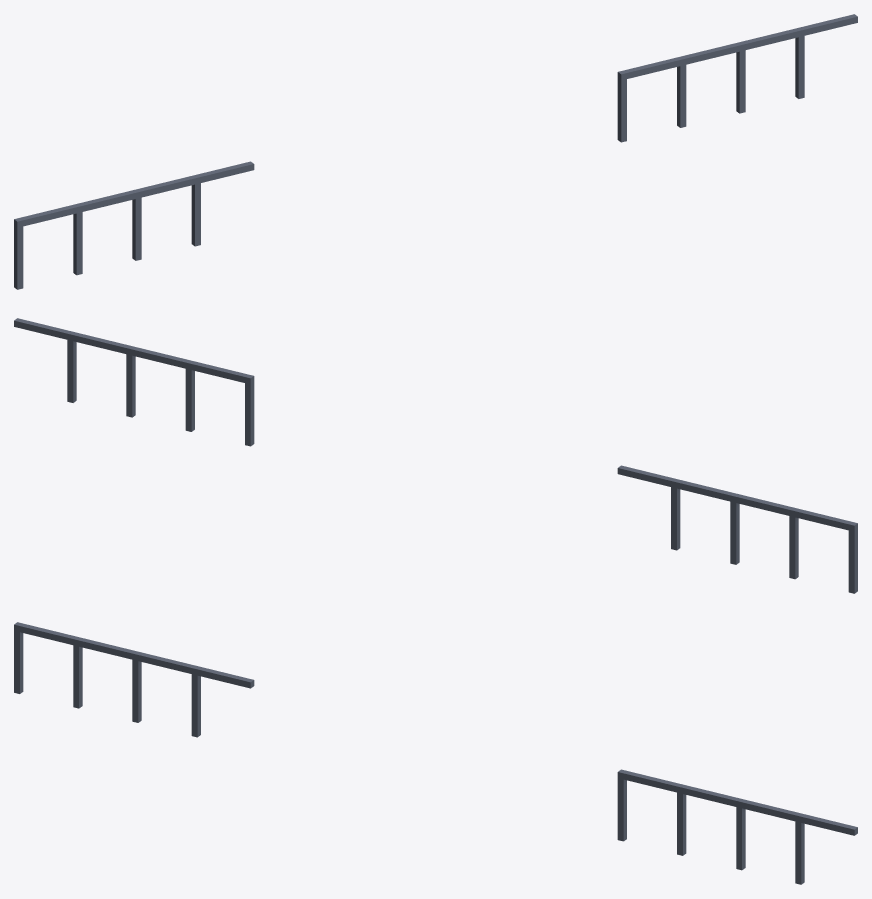
File: antenna_e5_l3.glb
3 views of the same model, one above another, from view 1: azimuth 30°, elevation 25°; view 2: azimuth 150°, elevation 25°; view 3: azimuth 330°, elevation 25° (orthographic).
Parts seen in each view (by area): view 1: Base; view 2: Base; view 3: Base.
Part boxes in pixels (<box>): Base: <box>14,14,857,289</box>; Base: <box>14,318,857,593</box>; Base: <box>14,622,857,884</box>.
Bounding box in the file's own units: 14.2 × 1.1 × 0.1.
